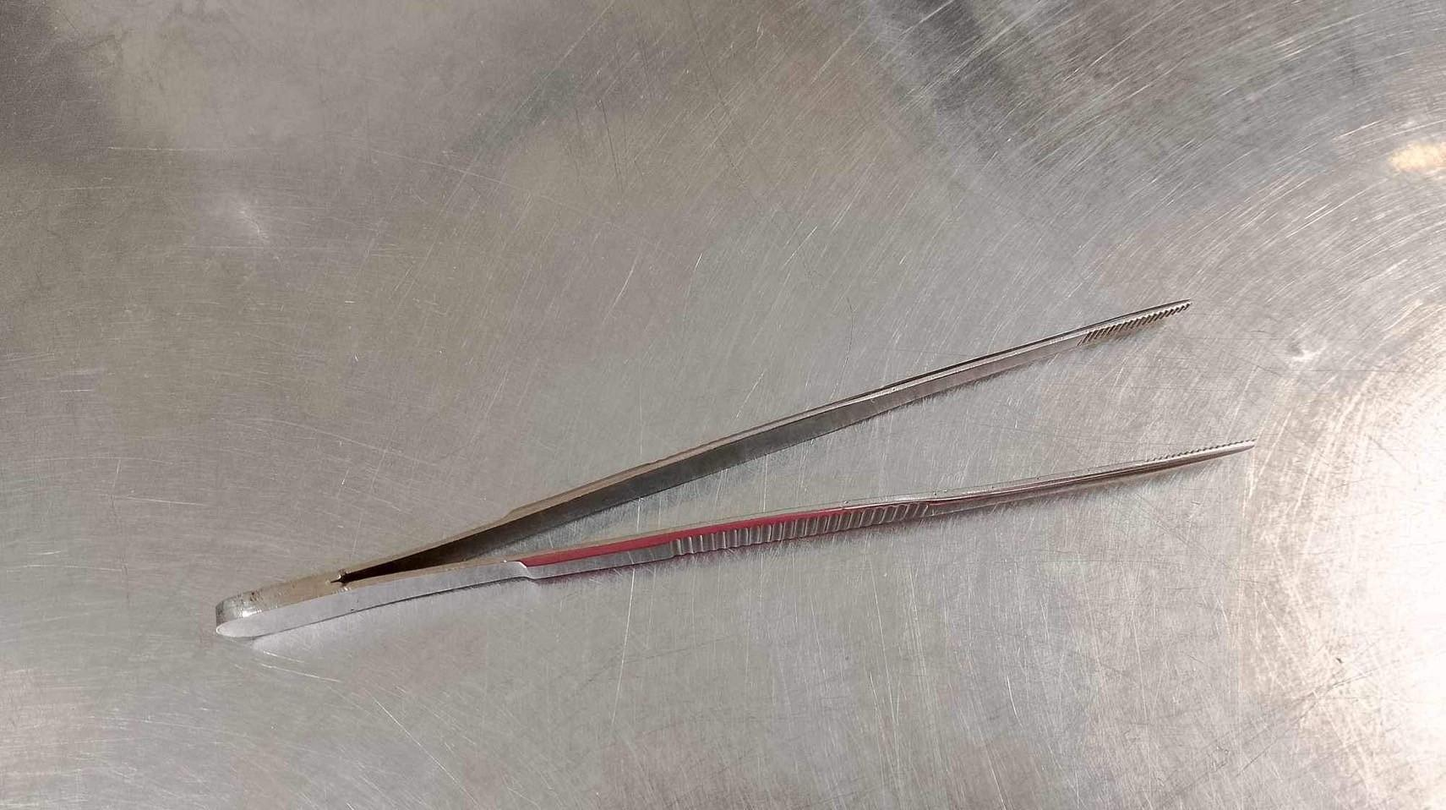General: (7, 5, 1438, 804), (210, 295, 1259, 643)
